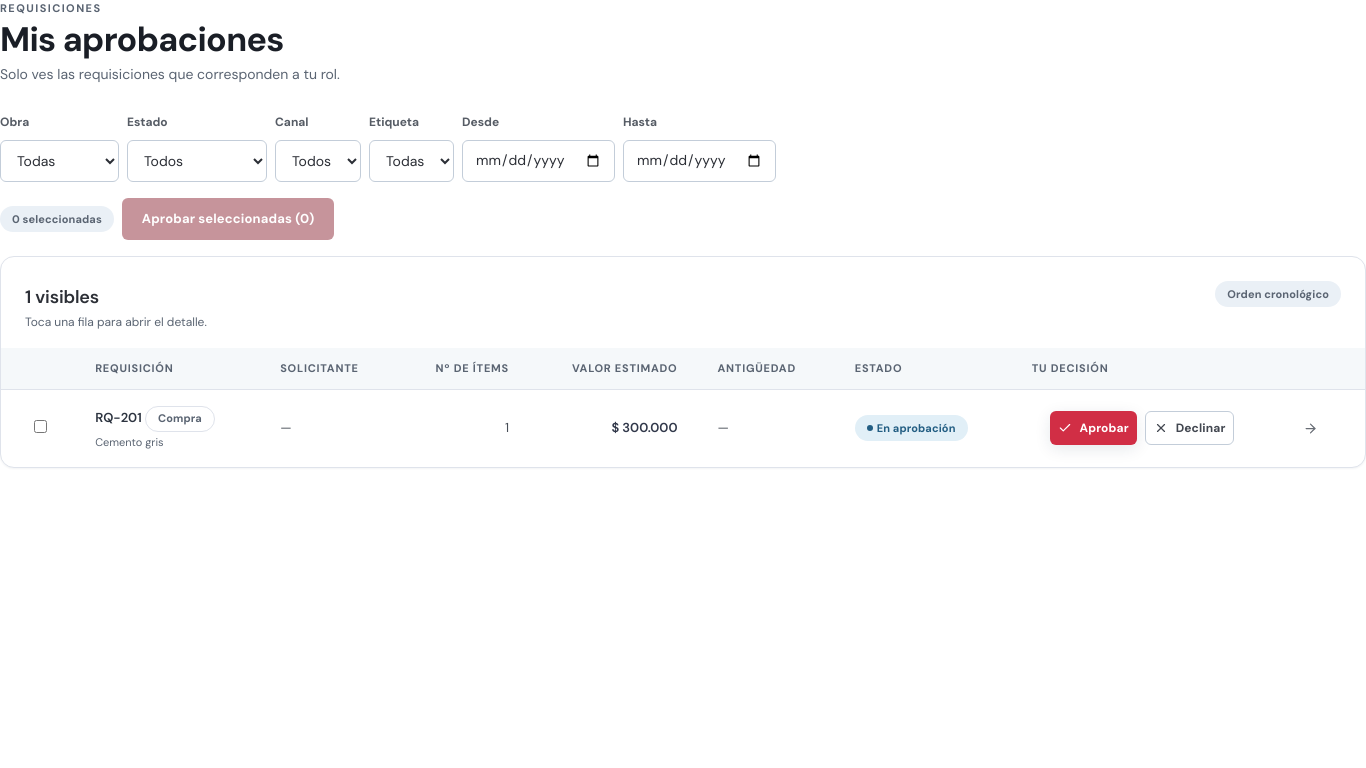
Scenario: Aprobar desde la lista: body exacto por fila › si declinar tus ítems deja otros vigentes de otro aprobador, el cierre real (aprobada) se lee del servidor, no se adivina
Click the button "Declinar" at (1190, 428), box [1145,411,1234,445]
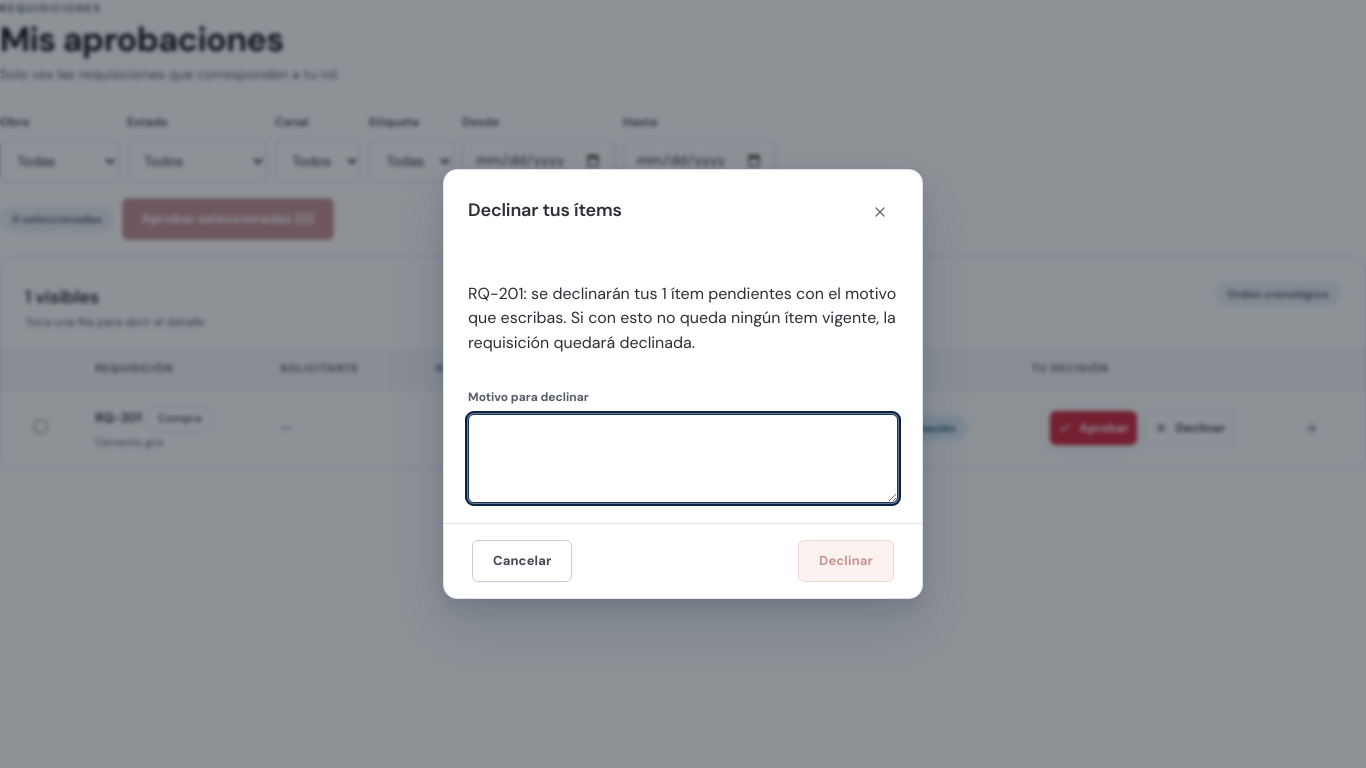
Type "No se necesita" into the text box labelled "Motivo para declinar" at (683, 459), box [468,414,898,504]
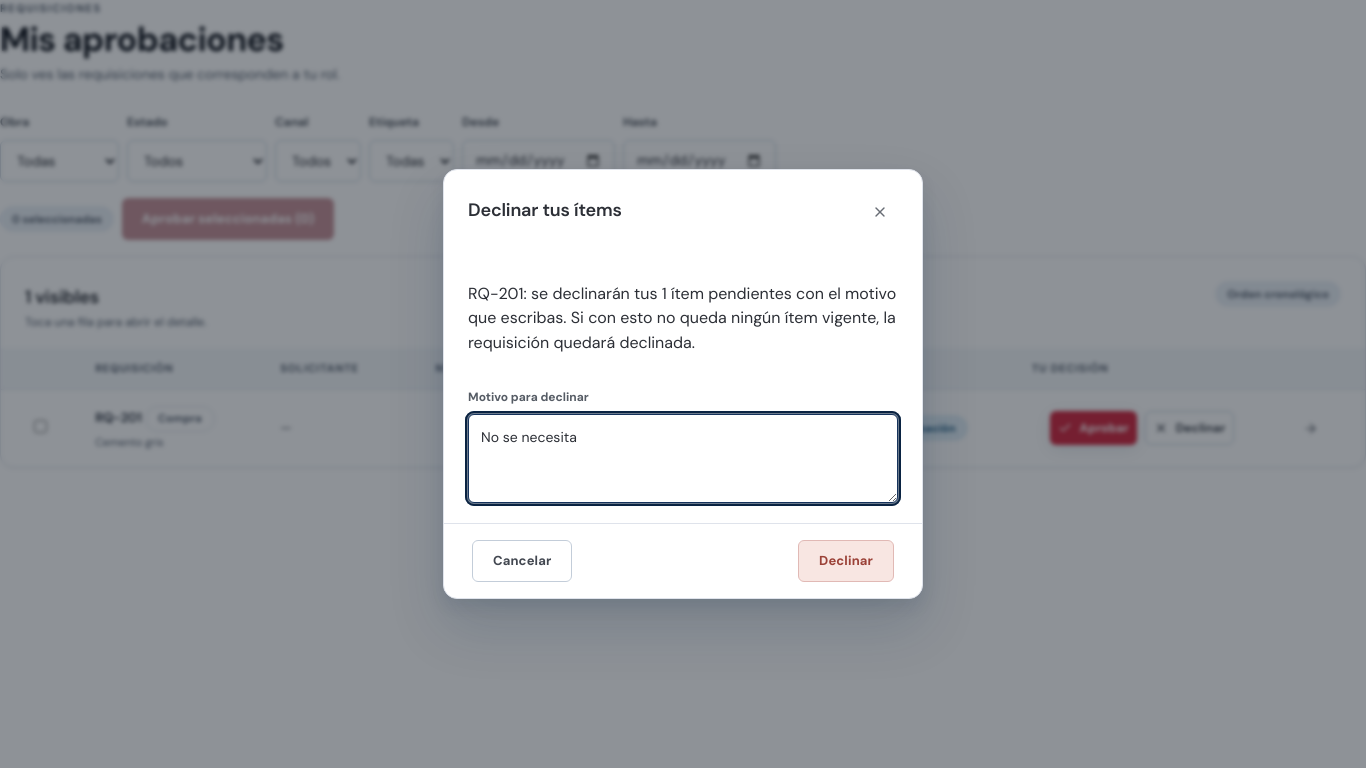
Click the button with test id "confirm-dialog-confirm" at (846, 562), box [798,540,894,582]
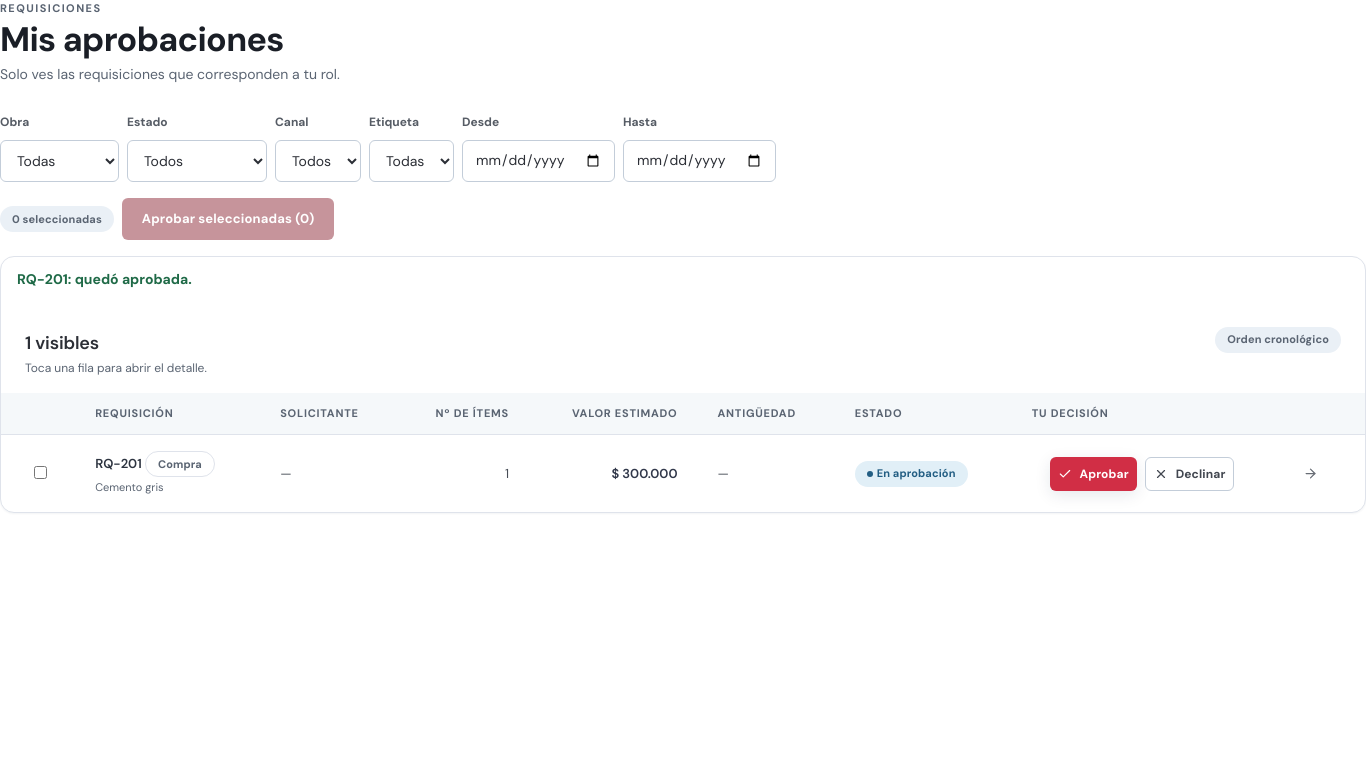
Expected: the text "RQ-201: quedó aprobada." is shown, [17,270,192,288]
